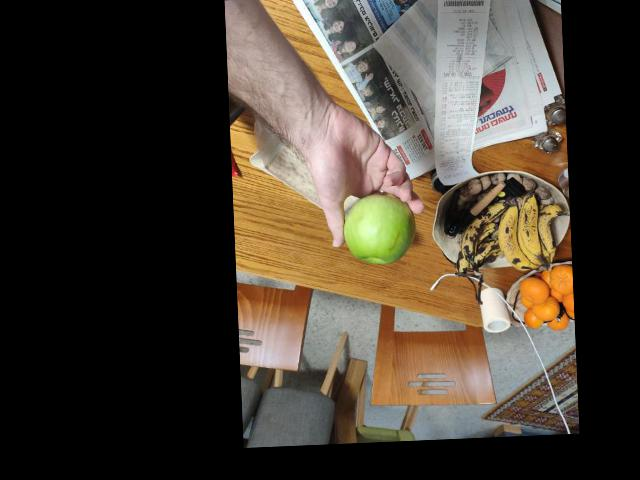apple: (343, 188, 418, 263)
